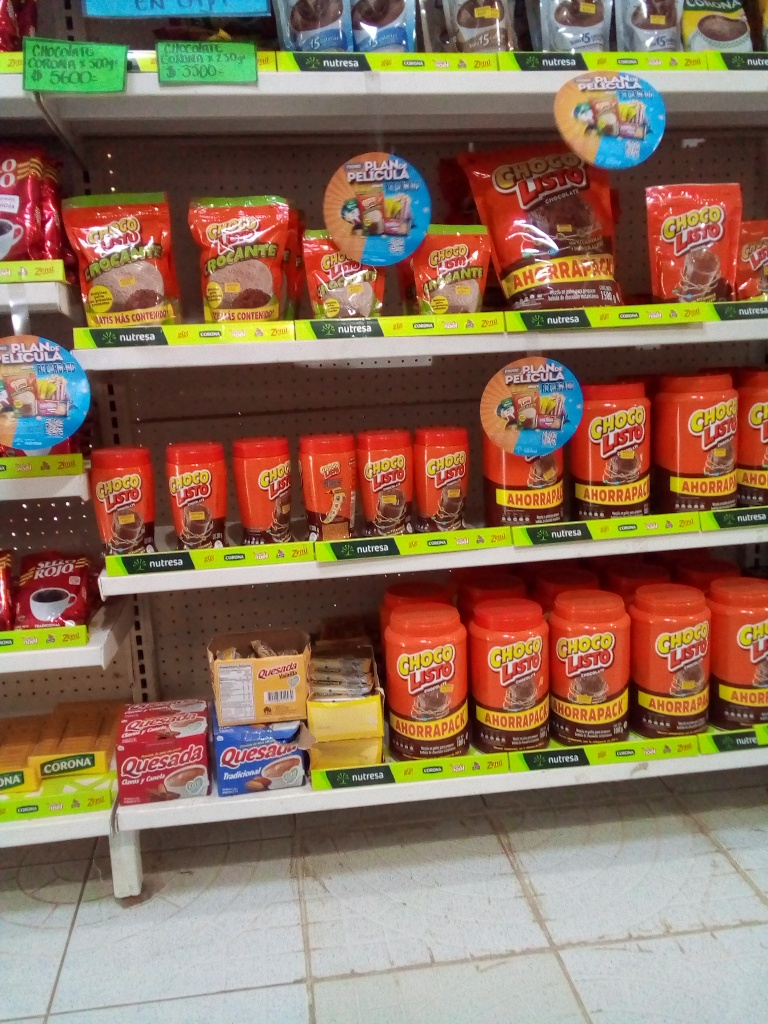COL0170102DYP10000: (292, 219, 386, 319)
COL0170103DYP1,500: (471, 146, 625, 304)
COL0170103DYP10000: (645, 176, 764, 300)
COL0170103TRR00100: (386, 596, 468, 753)
COL0170103TRR30000: (80, 441, 151, 561)
